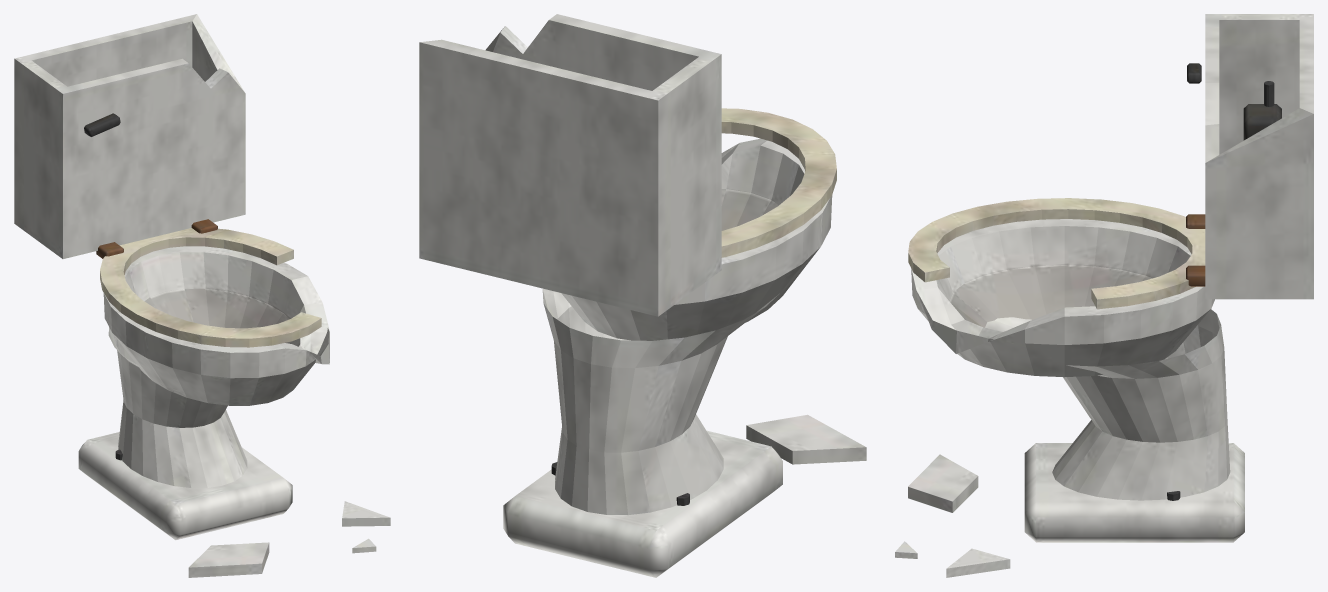
The model's file is BR28_broken_toilet.glb.
3 renders of one model, left to right at view 1: azimuth 30°, elevation 25°; view 2: azimuth 150°, elevation 25°; view 3: azimuth 270°, elevation 25°, orthographic. The views are drawn at different scales.
Parts seen in each view (by area): view 1: Porcelain floor foot; view 2: Porcelain floor foot; view 3: Porcelain floor foot.
Boxes of the visible parts, x1,y1,x2,y2 form: Porcelain floor foot: (14, 14, 390, 577); Porcelain floor foot: (419, 14, 866, 577); Porcelain floor foot: (895, 14, 1313, 577).
Size of the model in its own units: 0.4489 by 0.8 by 0.6761.
Materials: 6 (6 with a texture image).
